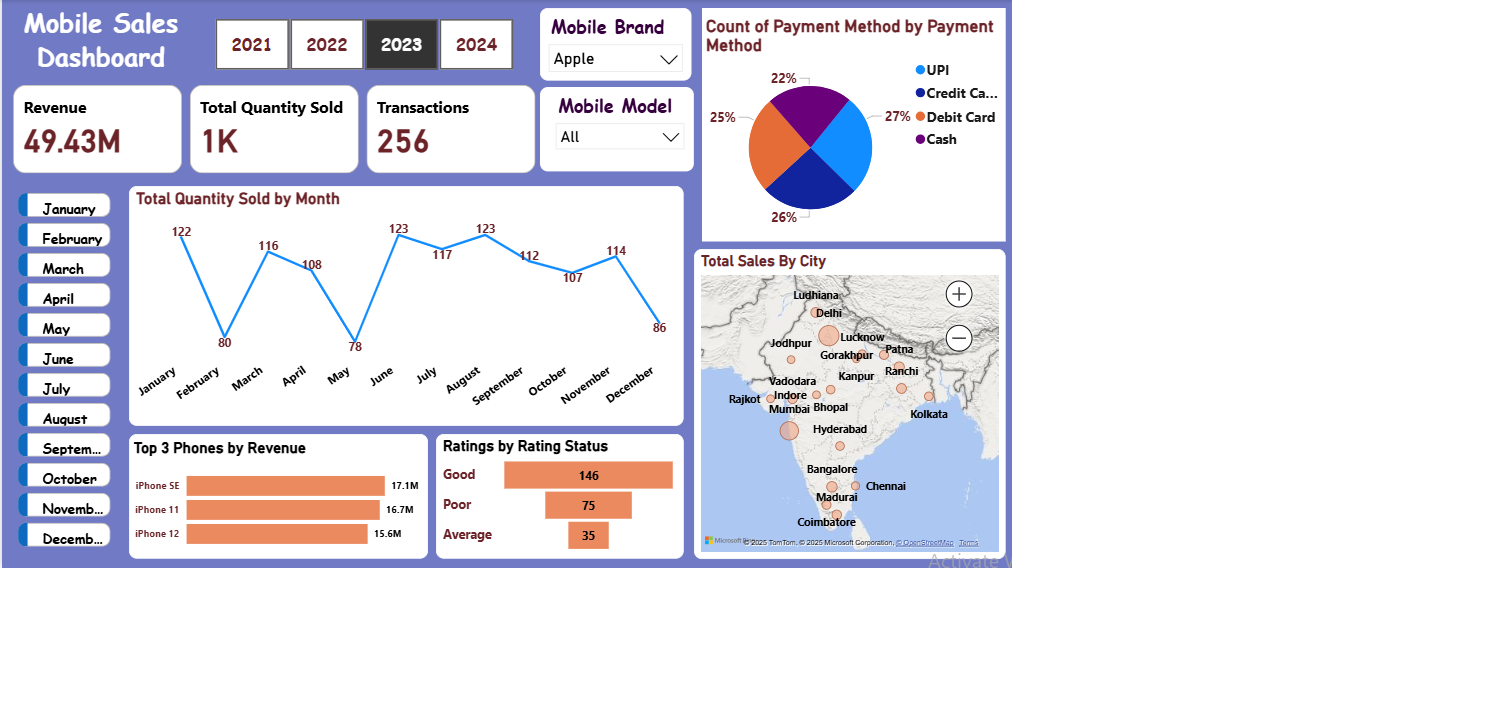

The dashboard page shown, as its layout file describes it:
{"tool":"powerbi","page":{"name":"Dashboard","canvas":[1280,720],"ordinal":0},"visuals":[{"type":"textbox","box":[9.7,0,230.7,109.8],"z":0},{"type":"advancedSlicerVisual","fields":{"Values":["Date_Calendar.Date.Variation.Date Hierarchy.Month"]},"box":[11,236.3,135,472.6],"z":1000},{"type":"cardVisual","fields":{"Data":["Sales_Data.Revenue","Sales_Data.Total_Quantity","Sales_Data.Transactions"]},"box":[9.7,102.9,672.7,122.3],"z":2000},{"type":"pieChart","fields":{"Category":["Sales_Data.Payment Method"],"Y":["CountNonNull(Sales_Data.Payment Method)"]},"box":[886.8,9.7,385,296.1],"z":3000},{"type":"slicer","fields":{"Values":["Sales_Data.Mobile Model"]},"box":[682.5,109.8,194.6,107],"z":4000},{"type":"slicer","fields":{"Values":["Sales_Data.Brand"]},"box":[682.5,9.7,191.8,91.7],"z":5000},{"type":"map","title":"Total Sales By City","fields":{"Category":["Sales_Data.City"],"Size":["CountNonNull(Sales_Data.City)"]},"box":[877.1,315.5,394.7,393.4],"z":6000},{"type":"lineChart","fields":{"Category":["Date_Calendar.Date.Variation.Date Hierarchy.Month"],"Y":["Sales_Data.Total Quantity Sold"]},"box":[161.2,236.3,703.3,304.4],"z":7000},{"type":"funnel","title":" Ratings by Rating Status","fields":{"Category":["Sales_Data.Rating Status"],"Y":["CountNonNull(Sales_Data.Customer Ratings)"]},"box":[550.4,550.4,314.1,158.5],"z":8000},{"type":"clusteredBarChart","title":"Top 3 Phones by Revenue","fields":{"Y":["Sales_Data.Revenue"],"Category":["Sales_Data.Mobile Model"]},"box":[161.2,550.4,379.5,158.5],"z":9000},{"type":"slicer","fields":{"Values":["Date_Calendar.Date.Variation.Date Hierarchy.Year"]},"box":[250.2,9.7,417,92],"z":10000}]}

Visuals, with their boxes on the page's 1280x720 design canvas (x1, y1, x2, y2). These are canvas units, not pixel positions in the 1492x721 screenshot, which may show the page scaled, cropped or inside an application window:
textbox: 10/0/240/110
advancedSlicerVisual - Date_Calendar.Date.Variation.Date Hierarchy.Month: 11/236/146/709
cardVisual - Sales_Data.Revenue x Sales_Data.Total_Quantity: 10/103/682/225
pieChart - Sales_Data.Payment Method x CountNonNull(Sales_Data.Payment Method): 887/10/1272/306
slicer - Sales_Data.Mobile Model: 682/110/877/217
slicer - Sales_Data.Brand: 682/10/874/101
"Total Sales By City" map: 877/316/1272/709
lineChart - Date_Calendar.Date.Variation.Date Hierarchy.Month x Sales_Data.Total Quantity Sold: 161/236/864/541
" Ratings by Rating Status" funnel: 550/550/864/709
"Top 3 Phones by Revenue" clusteredBarChart: 161/550/541/709
slicer - Date_Calendar.Date.Variation.Date Hierarchy.Year: 250/10/667/102
